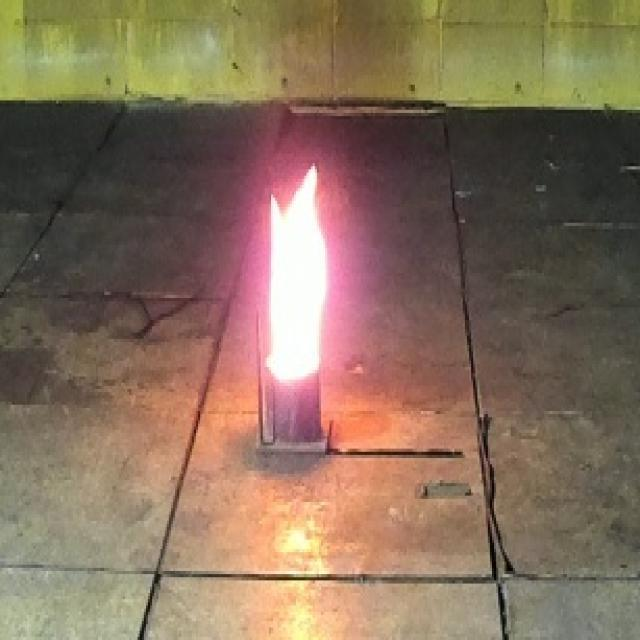Fire: (265, 164, 328, 382)
